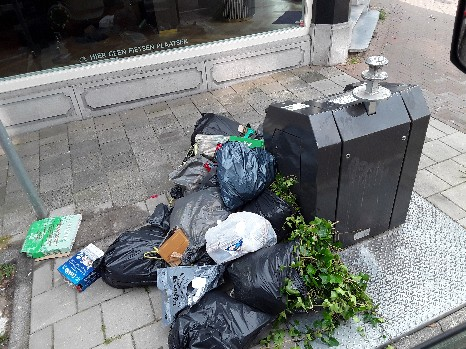Container: (295, 101, 430, 261)
GFT: (272, 194, 386, 327)
Rest: (236, 231, 329, 317), (58, 236, 209, 287), (148, 275, 254, 341), (170, 234, 253, 314), (168, 146, 245, 226), (227, 152, 276, 200), (204, 116, 256, 161)
